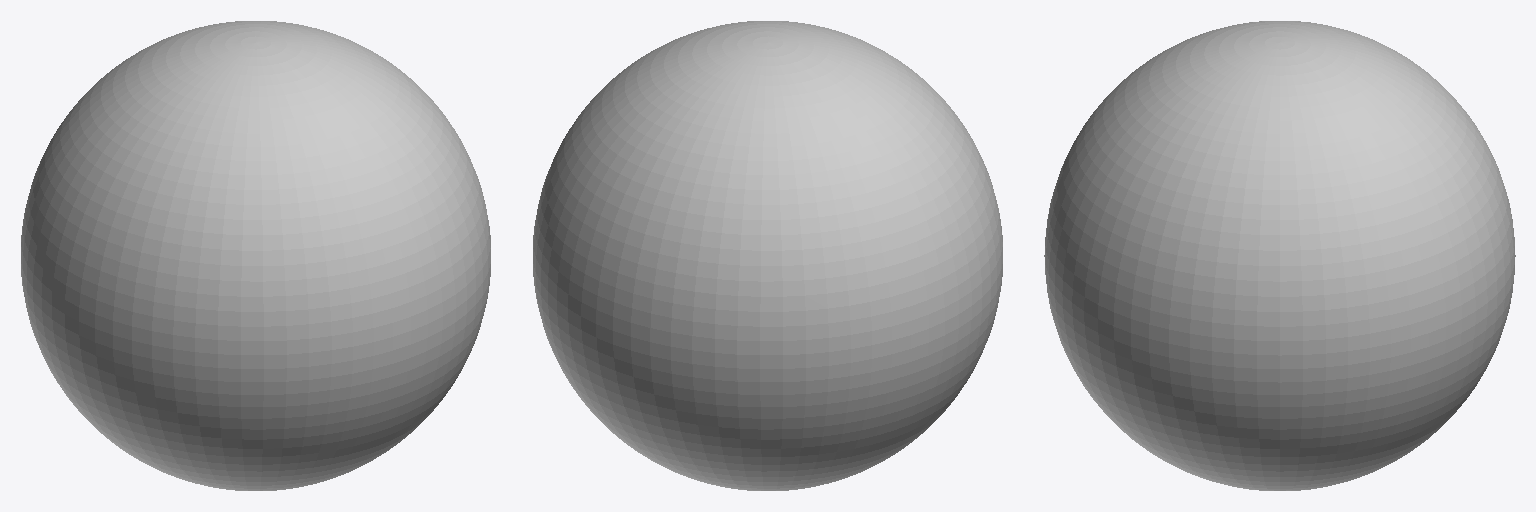
The model's file is planet.obj.
3 views of the same model, side by side, from view 1: azimuth 30°, elevation 25°; view 2: azimuth 150°, elevation 25°; view 3: azimuth 270°, elevation 25° (orthographic).
Visible parts, largest first — view 1: Saturn_Sphere; view 2: Saturn_Sphere; view 3: Saturn_Sphere.
Part boxes in pixels (x1,y1,x2,y2): Saturn_Sphere: (21,21,490,490); Saturn_Sphere: (533,21,1002,490); Saturn_Sphere: (1044,21,1515,490).
Size of the model in its own units: 2 by 2 by 2.